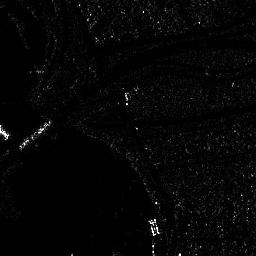ship: (16, 121, 51, 149)
